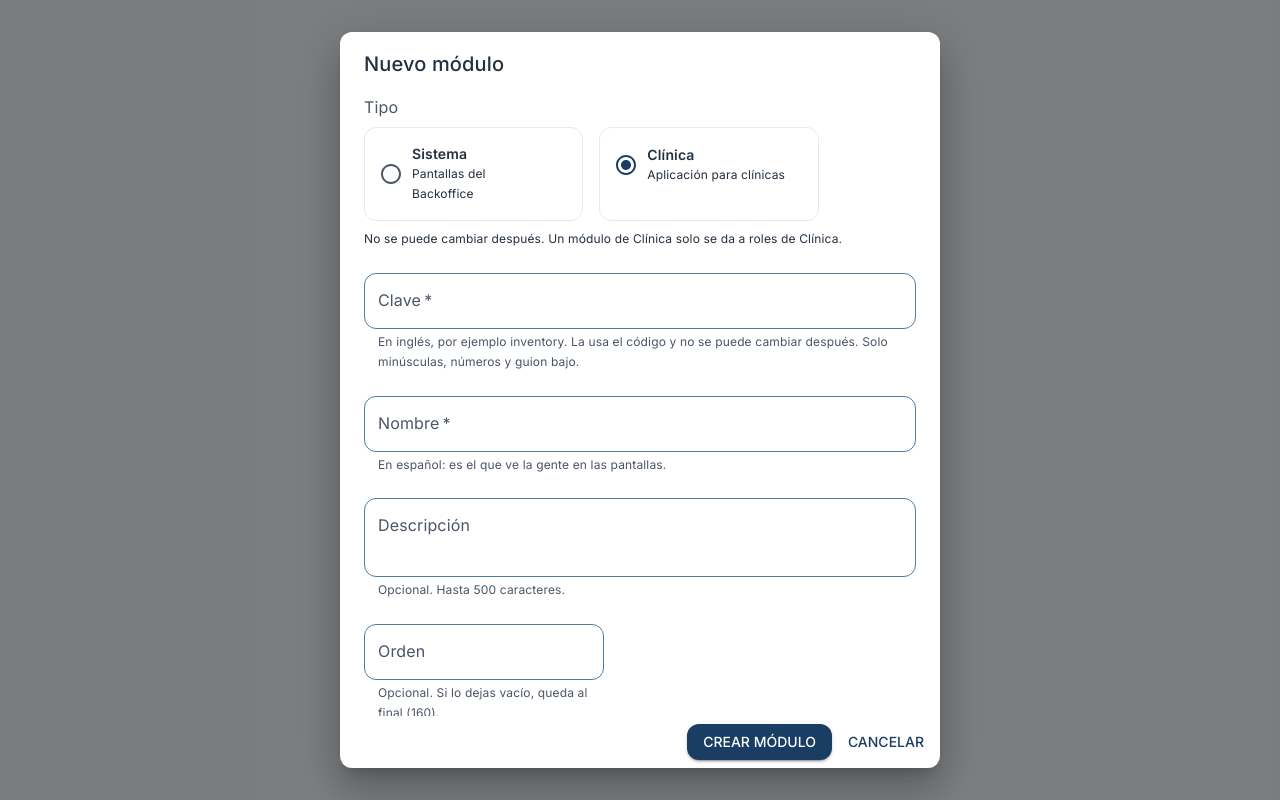
Scenario: ModuleCreatePanel › reports which action was not saved and still moves to editing it (research D11)
The image size is (1280, 800).
In the field labelled "Clave": (640, 301) [364,273,916,329], type "inventory"
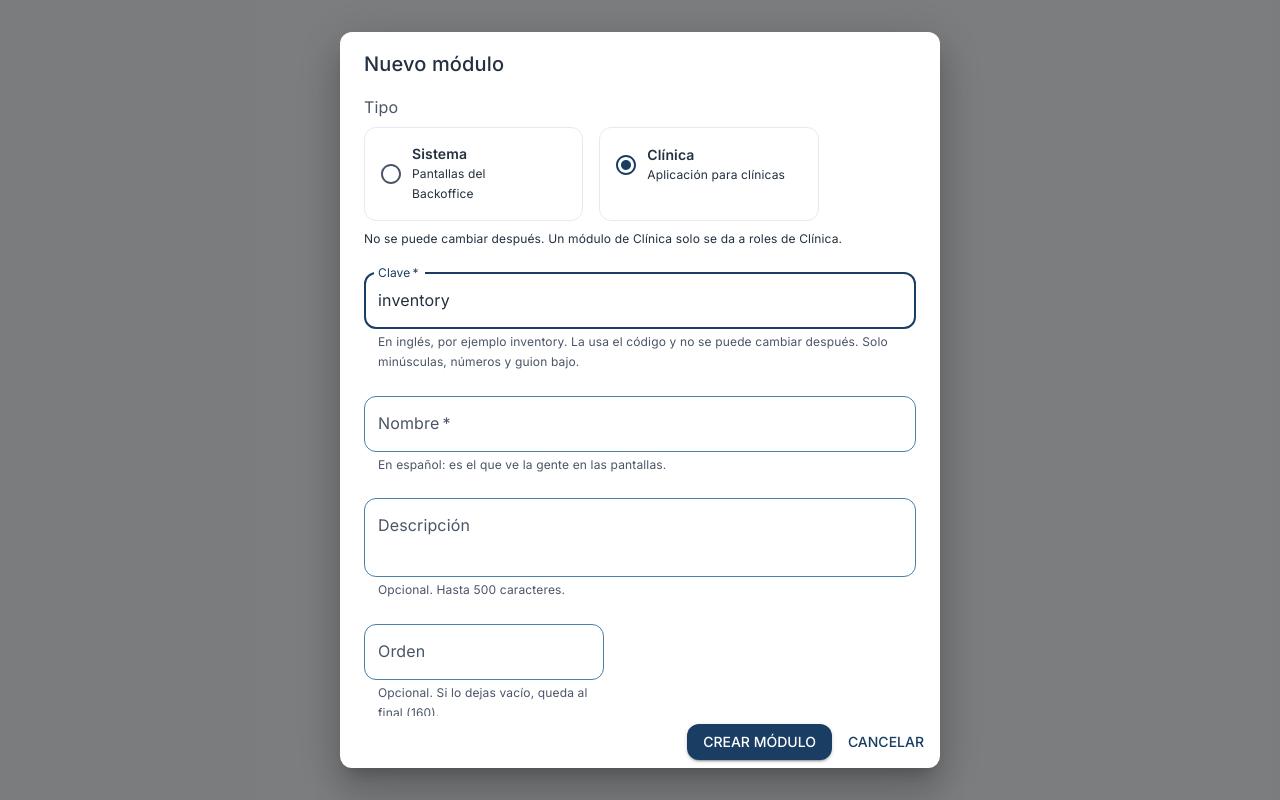
In the field labelled "Nombre": (640, 424) [364,396,916,452], type "Inventario"
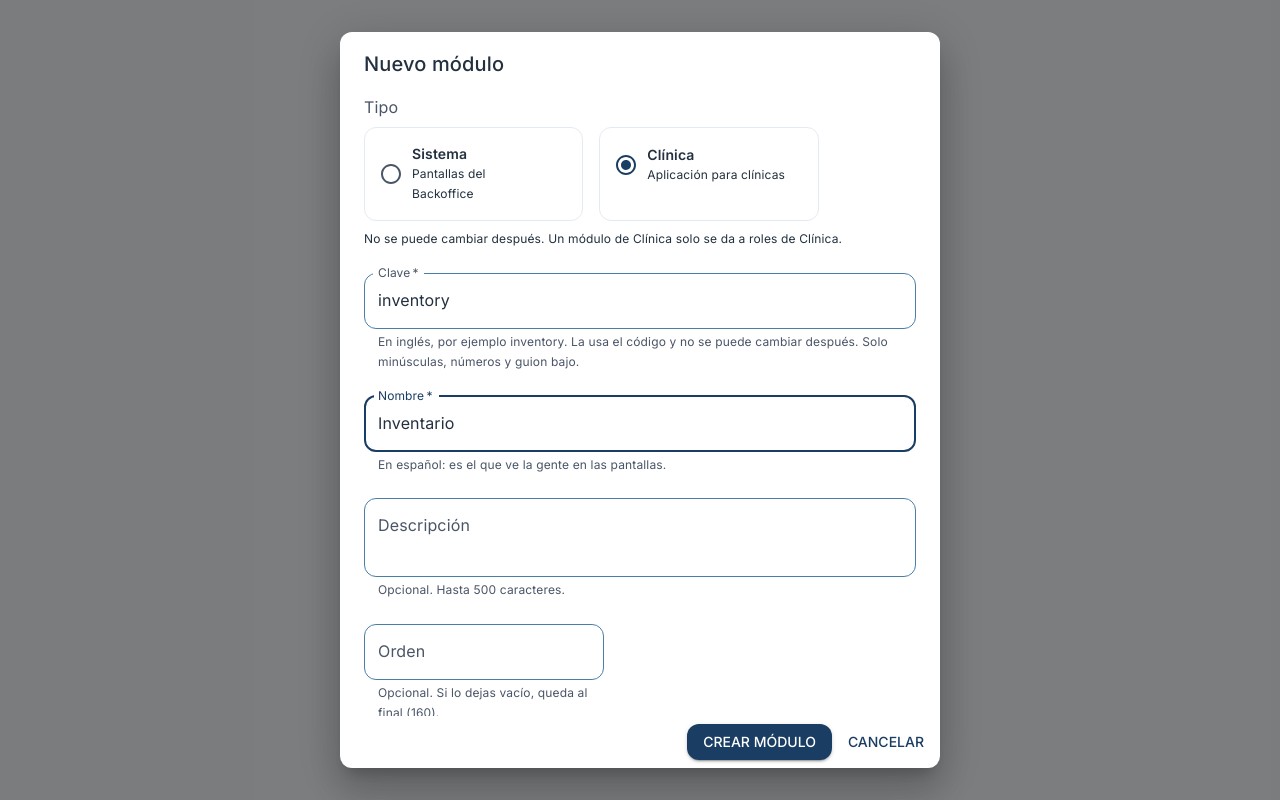
Click the button "Crear módulo": (760, 742) [687,724,832,760]
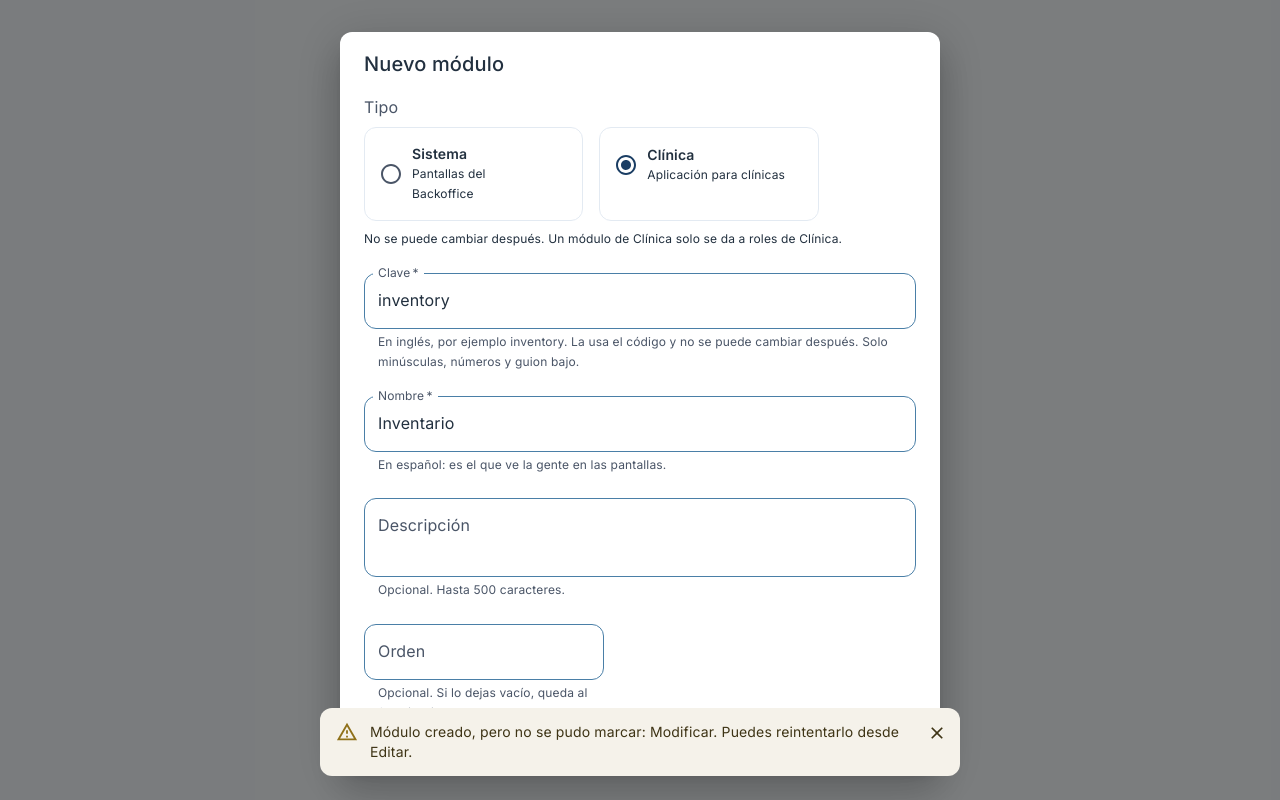
Expected: the text "Módulo creado, pero no se pudo marcar: Modificar. Puedes reintentarlo desde Editar." is shown, [370,723,899,760]
